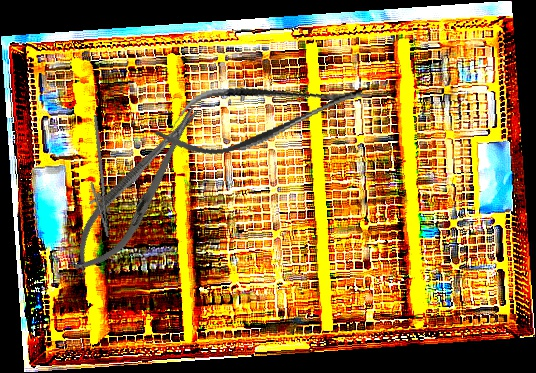Micro Scissor: (147, 61, 379, 168)
Needle Holder: (59, 94, 216, 286), (69, 114, 125, 240)
